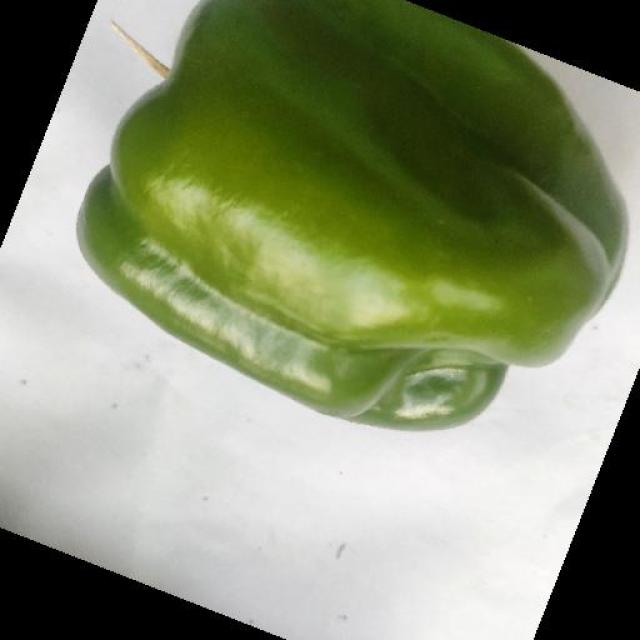Fresh_Capsicum: (156, 12, 593, 410)
